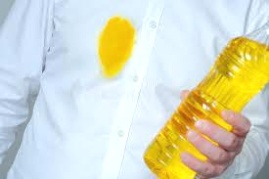mustard: (98, 15, 139, 81)
